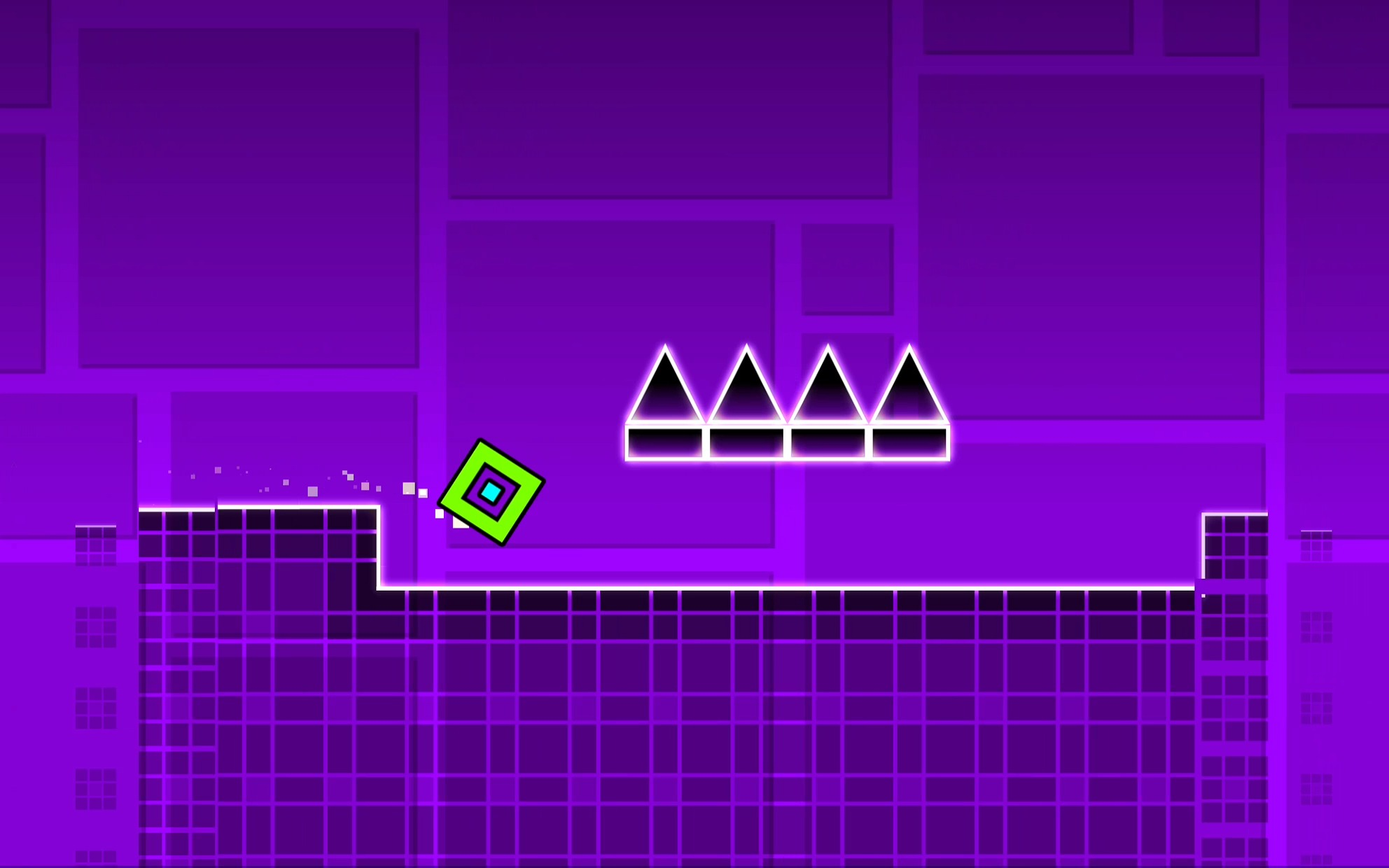Block2: (381, 580, 1203, 868), (139, 508, 379, 868), (1207, 513, 1337, 868)
Block3: (868, 417, 954, 463), (627, 424, 706, 465), (791, 426, 868, 465), (716, 424, 783, 464)
Player: (437, 438, 545, 544)
Spike: (871, 346, 948, 421), (790, 344, 865, 421), (626, 346, 701, 421), (710, 346, 783, 419)
